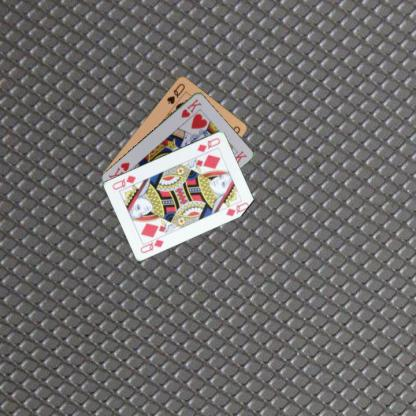Kh: (178, 96, 203, 119)
Qd: (138, 232, 164, 254), (195, 135, 222, 153)
Qs: (164, 80, 186, 105)
